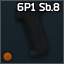AK polymer pistol grip 6P1 Sb.8: (0, 0, 64, 64)
